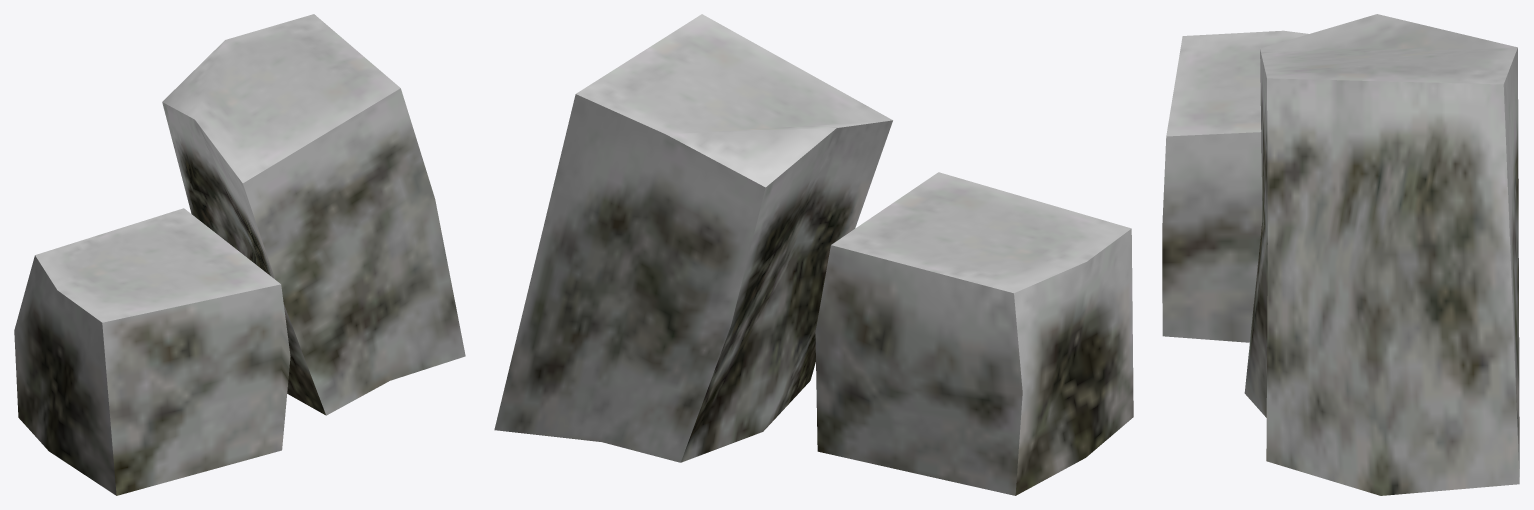
Rendered from ob-bigstone04_lod_01.fbx.
3 renders of one model, left to right at view 1: azimuth 30°, elevation 25°; view 2: azimuth 150°, elevation 25°; view 3: azimuth 270°, elevation 25°, orthographic. The views are drawn at different scales.
Visible parts, largest first — view 1: ob-bigstone04; view 2: ob-bigstone04; view 3: ob-bigstone04.
Boxes of the visible parts, x1,y1,x2,y2 form: ob-bigstone04: (14,14,465,495); ob-bigstone04: (494,14,1133,495); ob-bigstone04: (1162,14,1519,495).
Size of the model in its own units: 5.46 by 3.7 by 3.27.
